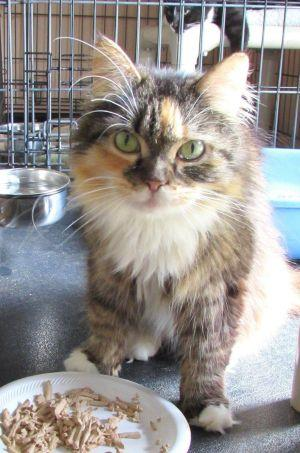persian: (69, 28, 263, 228)
